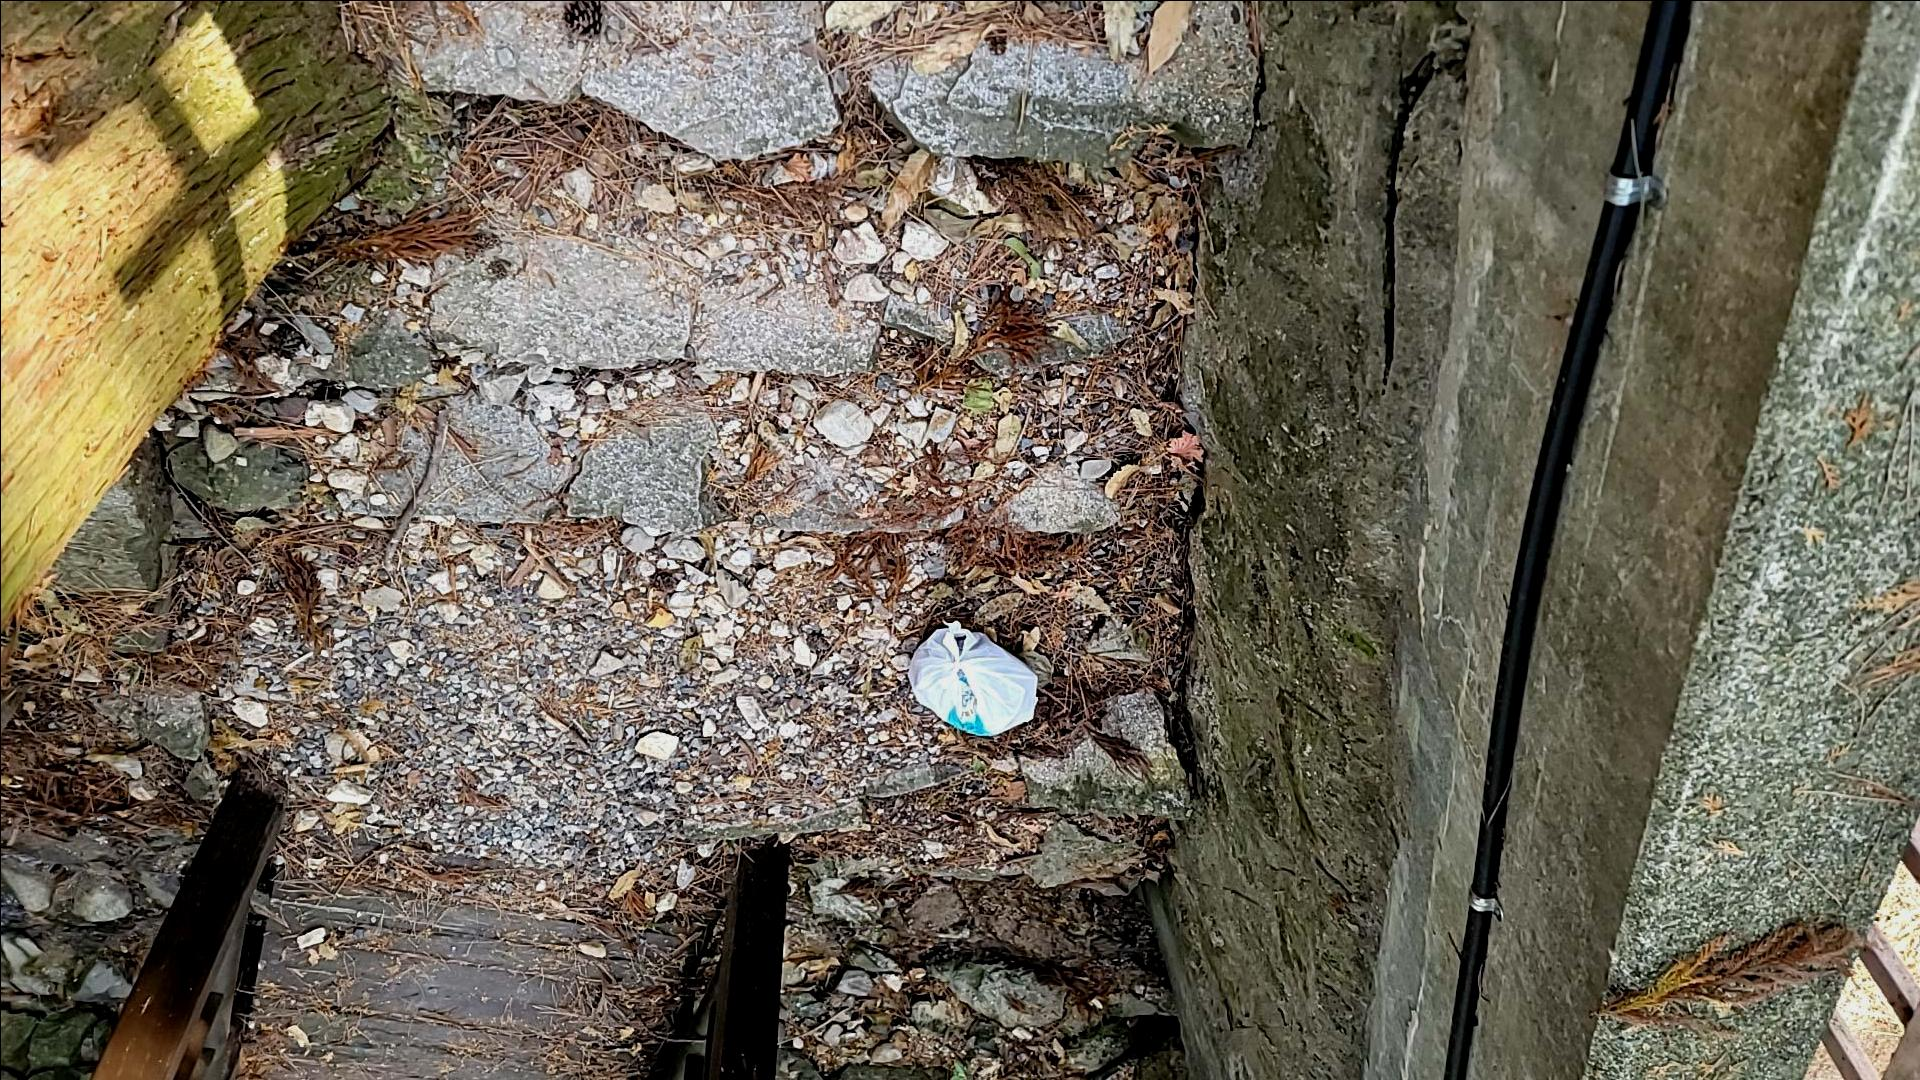white_bag: (894, 611, 1047, 746)
